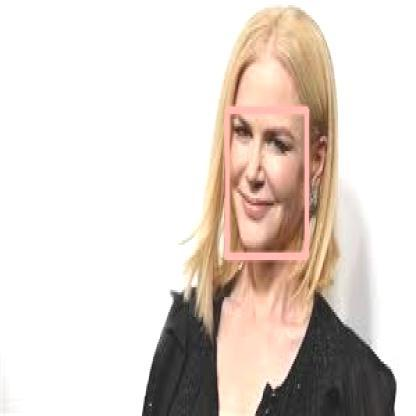without_mask: (227, 109, 306, 255)
